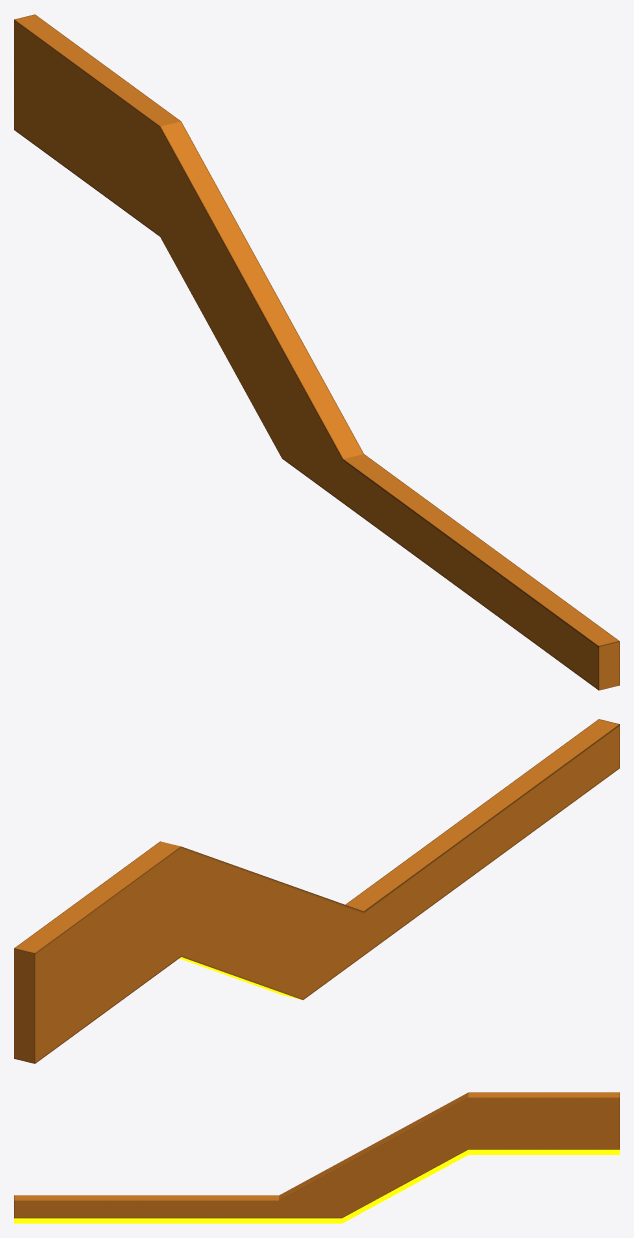
File: Wall_Frieze_01.FBX
3 views of the same model, one above another, from view 1: azimuth 30°, elevation 25°; view 2: azimuth 150°, elevation 25°; view 3: azimuth 270°, elevation 25° (orthographic). The views are drawn at different scales.
Visible parts, largest first — view 1: Wall_Frieze_01; view 2: Wall_Frieze_01; view 3: Wall_Frieze_01.
Boxes of the visible parts, x1,y1,x2,y2 form: Wall_Frieze_01: (14, 14, 619, 690); Wall_Frieze_01: (14, 719, 619, 1063); Wall_Frieze_01: (14, 1092, 619, 1223).
Bounding box in the file's own units: 0.25 × 2.75 × 12.
Materials: 2 (1 with a texture image).
